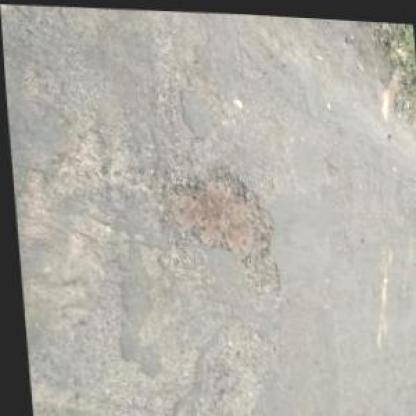pothole: (155, 158, 280, 298)
